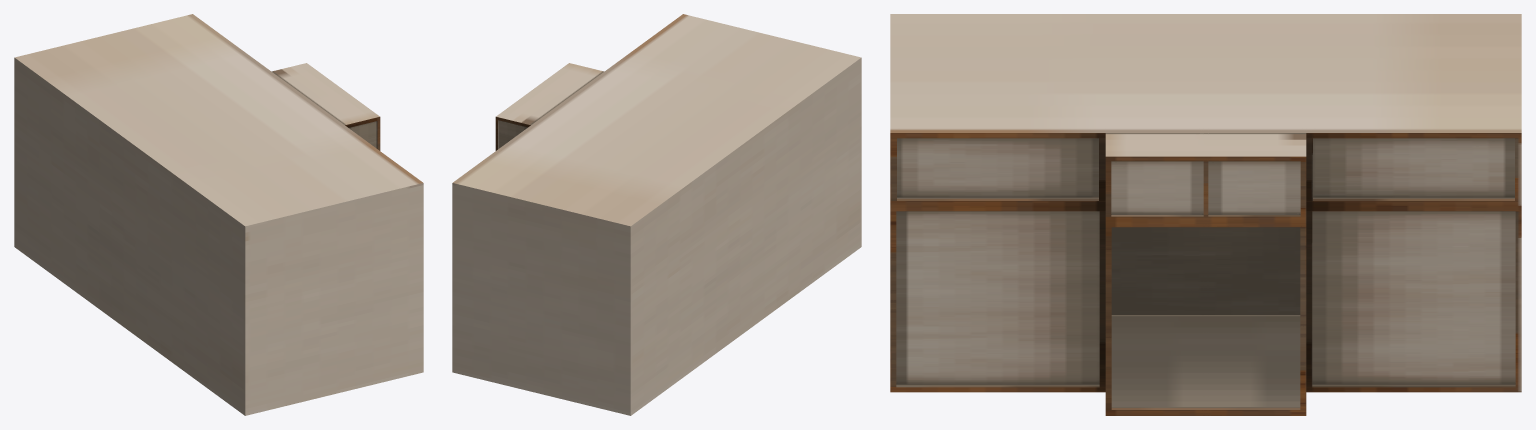
File: Room.fbx
3 renders of one model, left to right at view 1: azimuth 30°, elevation 25°; view 2: azimuth 150°, elevation 25°; view 3: azimuth 270°, elevation 25°, orthographic. The views are drawn at different scales.
Visible parts, largest first — view 1: 立方体.147; view 2: 立方体.147; view 3: 立方体.147.
Part boxes in pixels (x1=…): 立方体.147: x1=14, y1=14, x2=423, y2=415; 立方体.147: x1=452, y1=14, x2=861, y2=415; 立方体.147: x1=890, y1=14, x2=1521, y2=415.
Bounding box in the file's own units: 478 × 406 × 895.
Materials: 1 (1 with a texture image).
